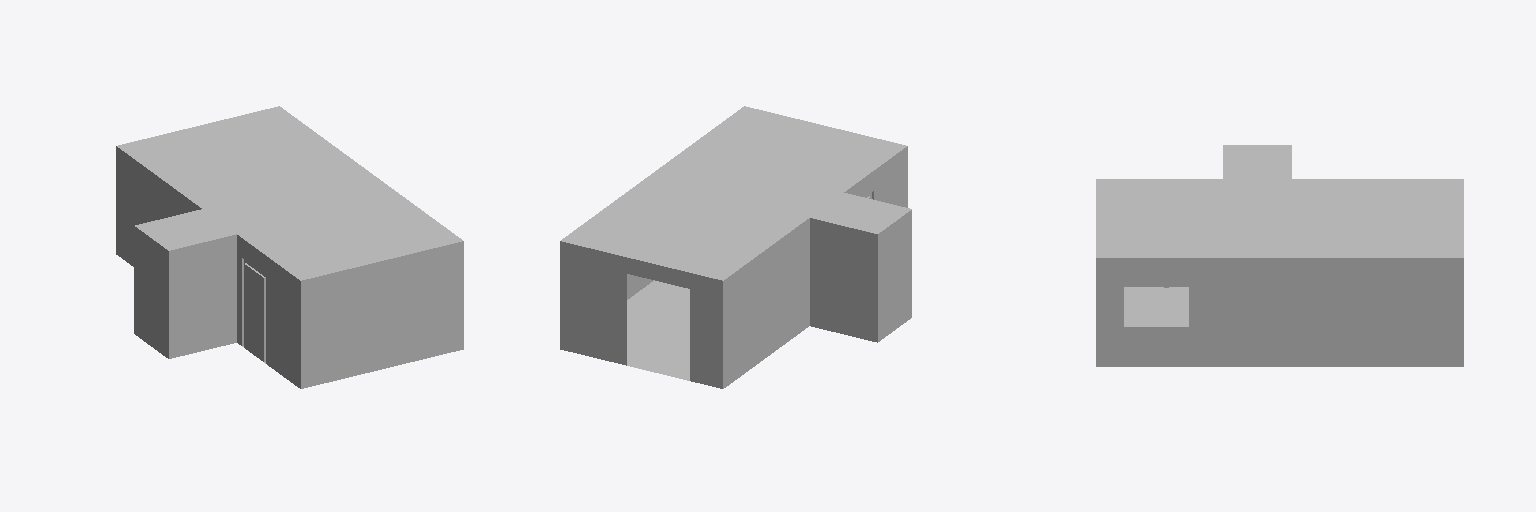
The model's file is home.obj.
3 renders of one model, left to right at view 1: azimuth 30°, elevation 25°; view 2: azimuth 150°, elevation 25°; view 3: azimuth 270°, elevation 25°, orthographic.
Visible parts, largest first — view 1: Room_WallsRoofFloorExtras_0; view 2: Room_WallsRoofFloorExtras_0; view 3: Room_WallsRoofFloorExtras_0.
Boxes of the visible parts, box(x1,y1,x2,y2) form: Room_WallsRoofFloorExtras_0: box(116, 106, 463, 388); Room_WallsRoofFloorExtras_0: box(560, 106, 911, 388); Room_WallsRoofFloorExtras_0: box(1096, 145, 1463, 366).
Size of the model in its own units: 0.486 by 0.2173 by 0.6703.